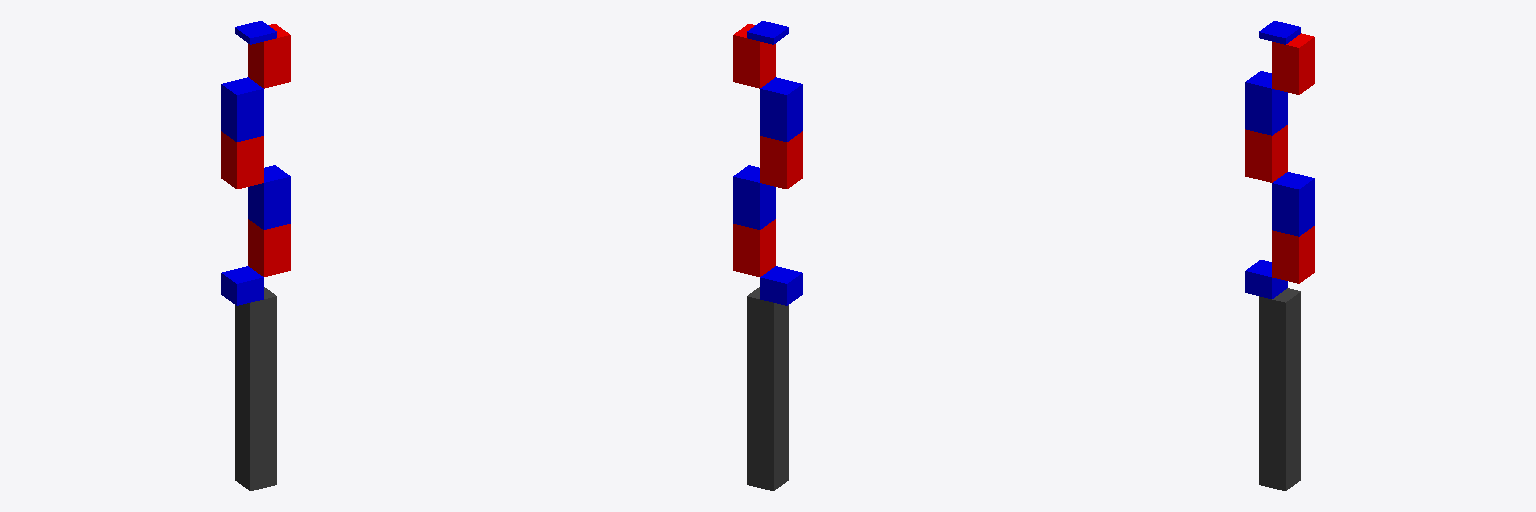
The robot description file, URDF, robot "armdemo":
<?xml version="1.0" ?>
<robot name="armdemo">

  <material name="red">
    <color rgba="1.0 0.0 0.0 1.0"/>
  </material>
  <material name="green">
    <color rgba="0.0 1.0 0.0 1.0"/>
  </material>
  <material name="blue">
    <color rgba="0.0 0.0 1.0 1.0"/>
  </material>
  <material name="gray">
    <color rgba="0.3 0.3 0.3 1.0"/>
  </material>
  <material name="white">
    <color rgba="1.0 1.0 1.0 1.0"/>
  </material>

  <!-- base(world) -->
  <link name="base_link"/>
  
  <!-- base joint  -->
  <joint name="base_joint" type="fixed">
    <parent link="base_link"/>
    <child link="link1"/>
  </joint>
 
  <!-- Link1 link & joint -->
  <link name="link1">
    <collision>
      <origin rpy="0 0 0" xyz="0 0 0.3"/>
      <geometry>
        <box size="0.09 0.09 0.6"/>
      </geometry>
    </collision>
    <visual>
      <origin rpy="0 0 0" xyz="0 0 0.3"/>
      <geometry>
        <box size="0.09 0.09 0.6"/>
      </geometry>
      <material name="gray"/>
    </visual>
    <inertial>
      <origin rpy="0 0 0" xyz="0 0 0"/>
      <mass value="50"/>
      <inertia ixx="0" ixy="0.1" ixz="0.0" iyy="1" iyz="0.0" izz="0.1"/>
    </inertial>
  </link>
   <joint name="joint1" type="revolute">
    <parent link="link1"/>
    <child link="link2"/>
    <origin rpy="0 0 0" xyz="0 0 0.6"/>
   
    <axis xyz="0 0 1"/>
    <dynamics damping="0.05"/>
    <limit effort="30" lower="-2.96" upper="2.96" velocity="1.74"/>
  </joint>
  
  <!-- Link2 link & joint -->
  <link name="link2">
    <collision>
      <origin rpy="0 0 0" xyz="-0.045 0 0.035"/>
      <geometry>
        <box size="0.09 0.09 0.07"/>
      </geometry>
    </collision>
    <visual>
      <origin rpy="0 0 0" xyz="-0.045 0 0.035"/>
      <geometry>
        <box size="0.09 0.09 0.07"/>
      </geometry>
      <material name="blue"/>
    </visual>
    <inertial>
      <origin rpy="0 0 0" xyz="0 0 0.1"/>
      <mass value="0.1"/>
      <inertia ixx="0.01" ixy="0.0" ixz="0.0" iyy="0.01" iyz="0.0" izz="0.01"/>
    </inertial>
  </link>
  <!-- joint2 -->
  <joint name="joint2" type="revolute">
    <parent link="link2"/>
    <child link="link3"/>
    <origin rpy="0 0 0" xyz="0 0 0.07"/>
   
    <axis xyz="1 0 0"/>
    <dynamics damping="0.05"/>
    <limit effort="30" lower="-1.91" upper="1.91" velocity="1.74"/>
  </joint>
  
  <!-- Link3 link & joint -->
 
  <link name="link3">
    <collision>
      <origin rpy="0 0 0" xyz="0.045 0 0.075"/>
      <geometry>
        <box size="0.09 0.09 0.15"/>
      </geometry>
    </collision>
    <visual>
      <origin rpy="0 0 0" xyz="0.045 0 0.075"/>
      <geometry>
        <box size="0.09 0.09 0.15"/>
      </geometry>
      <material name="red"/>
    </visual>
    <inertial>
      <origin rpy="0 0 0" xyz="0.045 0 0.1"/>
      <mass value="0.1"/>
       <inertia ixx="0.01" ixy="0.0" ixz="0.0" iyy="0.01" iyz="0.0" izz="0.01"/>
    </inertial>
  </link>
  <!-- joint3 -->
  <joint name="joint3" type="revolute">
    <parent link="link3"/>
    <child link="link4"/>
    <origin rpy="0 0 0" xyz="0 0 0.15"/>

    <axis xyz="0 0 1"/>
    <dynamics damping="0.1"/>
    <limit effort="30" lower="-2.87" upper="2.87" velocity="2.09"/>
  </joint>

  <!-- Link4 link & joint -->
 
  <link name="link4">
    <collision>
      <origin rpy="0 0 0" xyz="0.045 0 0.075"/>
      <geometry>
        <box size="0.09 0.09 0.15"/>
      </geometry>
    </collision>
    <visual>
      <origin rpy="0 0 0" xyz="0.045 0 0.075"/>
      <geometry>
        <box size="0.09 0.09 0.15"/>
      </geometry>
      <material name="blue"/>
    </visual>
    <inertial>
      <origin rpy="0 0 0" xyz="0 0 0.1"/>
      <mass value="0.1"/>
       <inertia ixx="0.01" ixy="0.0" ixz="0.0" iyy="0.01" iyz="0.0" izz="0.01"/>
    </inertial>
  </link>
  <joint name="joint4" type="revolute">
    <parent link="link4"/>
    <child link="link5"/>
    <origin rpy="0 0 0" xyz="0 0 0.15"/>
 
    <axis xyz="1 0 0"/>
    <dynamics damping="0.1"/>
    <limit effort="30" lower="-2.18" upper="2.18" velocity="2.09"/>
  </joint>

  <!-- Link5 link & joint -->
  <link name="link5">
        <collision>
      <origin rpy="0 0 0" xyz="-0.045 0 0.075"/>
      <geometry>
        <box size="0.09 0.09 0.15"/>
      </geometry>
    </collision>
    <visual>
      <origin rpy="0 0 0" xyz="-0.045 0 0.075"/>
      <geometry>
        <box size="0.09 0.09 0.15"/>
      </geometry>
      <material name="red"/>
    </visual>
    <inertial>
      <origin rpy="0 0 0" xyz="0 0 0.1"/>
      <mass value="0.1"/>
       <inertia ixx="0.01" ixy="0.0" ixz="0.0" iyy="0.01" iyz="0.0" izz="0.01"/>
    </inertial>
  </link>
  <joint name="joint5" type="revolute">
    <parent link="link5"/>
    <child link="link6"/>
    <origin rpy="0 0 0" xyz="0 0 0.15"/>
 
    <axis xyz="0 0 1"/>
    <dynamics damping="0.1"/>
    <limit effort="30" lower="-2.87" upper="2.87" velocity="2.79"/>
  </joint>
  
  <!-- Link6 link & joint -->
  
  <link name="link6">
    <collision>
      <origin rpy="0 0 0" xyz="-0.045 0 0.075"/>
      <geometry>
        <box size="0.09 0.09 0.15"/>
      </geometry>
    </collision>
    <visual>
      <origin rpy="0 0 0" xyz="-0.045 0 0.075"/>
      <geometry>
        <box size="0.09 0.09 0.15"/>
      </geometry>
      <material name="blue"/>
    </visual>
    <inertial>
      <origin rpy="0 0 0" xyz="0 0 0.1"/>
      <mass value="0.1"/>
       <inertia ixx="0.01" ixy="0.0" ixz="0.0" iyy="0.01" iyz="0.0" izz="0.01"/>
    </inertial>
  </link>
  <joint name="joint6" type="revolute">
    <parent link="link6"/>
    <child link="link7"/>
    <origin rpy="0 0 0" xyz="0 0 0.15"/>
    <axis xyz="1 0 0"/>
    <dynamics damping="0.1"/>
    <limit effort="30" lower="-2.09" upper="2.09" velocity="2.79"/>
  </joint>

  <!-- Link7 link & joint -->
  <link name="link7">
    <collision>
      <origin rpy="0 0 0" xyz="0.045 0 0.075"/>
      <geometry>
        <box size="0.09 0.09 0.15"/>
      </geometry>
    </collision>
    <visual>
      <origin rpy="0 0 0" xyz="0.045 0 0.075"/>
      <geometry>
        <box size="0.09 0.09 0.15"/>
      </geometry>
      <material name="red"/>
    </visual>
    <inertial>
      <origin rpy="0 0 0" xyz="0 0 0.1"/>
      <mass value="0.1"/>
       <inertia ixx="0.01" ixy="0.0" ixz="0.0" iyy="0.01" iyz="0.0" izz="0.01"/>
    </inertial>
  </link>
  <joint name="joint7" type="revolute">
    <parent link="link7"/>
    <child link="link8"/>
    <origin rpy="0 0 0" xyz="0 0 0.15"/>
    <axis xyz="0 0 1"/>
    <dynamics damping="0.1"/>
    <limit effort="30" lower="-2.96" upper="2.96" velocity="4.18"/>
  </joint>

 <!-- Link8 (end effector)-->
  <link name="link8">
    <collision>
      <origin rpy="0 0 0" xyz="0 0 0.01"/>
      <geometry>
        <box size="0.09 0.09 0.02"/>
      </geometry>
    </collision>
    <visual>
      <origin rpy="0 0 0" xyz="0 0 0.01"/>
      <geometry>
        <box size="0.09 0.09 0.02"/>
      </geometry>
      <material name="blue"/>
    </visual>
    <inertial>
      <origin rpy="0 0 0" xyz="0 0 0.01"/>
      <mass value="0.1"/>
        <inertia ixx="0.01" ixy="0.0" ixz="0.0" iyy="0.01" iyz="0.0" izz="0.01"/>
    </inertial>
  </link>

  <transmission name="link1_trans">
    <type>transmission_interface/SimpleTransmission</type>
      <joint name="joint1">
      <hardwareInterface>hardware_interface/EffortJointInterface</hardwareInterface>
    </joint>
    <actuator name="link1_motor">
      <hardwareInterface>hardware_interface/EffortJointInterface</hardwareInterface>
      <mechanicalReduction>1</mechanicalReduction>
    </actuator>
  </transmission>
  <transmission name="link2_trans">
    <type>transmission_interface/SimpleTransmission</type>
      <joint name="joint2">
      <hardwareInterface>hardware_interface/EffortJointInterface</hardwareInterface>
    </joint>
    <actuator name="link2_motor">
      <hardwareInterface>hardware_interface/EffortJointInterface</hardwareInterface>
      <mechanicalReduction>1</mechanicalReduction>
    </actuator>
  </transmission>
  <transmission name="link3_trans">
    <type>transmission_interface/SimpleTransmission</type>
      <joint name="joint3">
      <hardwareInterface>hardware_interface/EffortJointInterface</hardwareInterface>
    </joint>
    <actuator name="link3_motor">
      <hardwareInterface>hardware_interface/EffortJointInterface</hardwareInterface>
      <mechanicalReduction>1</mechanicalReduction>
    </actuator>
  </transmission>
  <transmission name="link4_trans">
    <type>transmission_interface/SimpleTransmission</type>
      <joint name="joint4">
      <hardwareInterface>hardware_interface/EffortJointInterface</hardwareInterface>
    </joint>
    <actuator name="link4_motor">
      <hardwareInterface>hardware_interface/EffortJointInterface</hardwareInterface>
      <mechanicalReduction>1</mechanicalReduction>
    </actuator>
  </transmission>
  <transmission name="link5_trans">
    <type>transmission_interface/SimpleTransmission</type>
      <joint name="joint5">
      <hardwareInterface>hardware_interface/EffortJointInterface</hardwareInterface>
    </joint>
    <actuator name="link5_motor">
      <hardwareInterface>hardware_interface/EffortJointInterface</hardwareInterface>
      <mechanicalReduction>1</mechanicalReduction>
    </actuator>
  </transmission>
  <transmission name="link6_trans">
    <type>transmission_interface/SimpleTransmission</type>
      <joint name="joint6">
      <hardwareInterface>hardware_interface/EffortJointInterface</hardwareInterface>
    </joint>
    <actuator name="link6_motor">
      <hardwareInterface>hardware_interface/EffortJointInterface</hardwareInterface>
      <mechanicalReduction>1</mechanicalReduction>
    </actuator>
  </transmission>
  <transmission name="link7_trans">
    <type>transmission_interface/SimpleTransmission</type>
      <joint name="joint7">
      <hardwareInterface>hardware_interface/EffortJointInterface</hardwareInterface>
    </joint>
    <actuator name="link7_motor">
      <hardwareInterface>hardware_interface/EffortJointInterface</hardwareInterface>
      <mechanicalReduction>1</mechanicalReduction>
    </actuator>
  </transmission>
  <gazebo>
    <plugin name="gazebo_ros_control" filename="libgazebo_ros_control.so">
      <robotNamespace>/</robotNamespace>
      <robotSimType>gazebo_ros_control/DefaultRobotHWSim</robotSimType>
      <legacyModeNS>true</legacyModeNS>
    </plugin>
  </gazebo>

</robot>

--- What the picture shows (computed from the rendered views, not written in the file) ---
Views: 3 orthographic renders of the robot side by side, from view 1: azimuth 30°, elevation 25°; view 2: azimuth 150°, elevation 25°; view 3: azimuth 330°, elevation 25°.
Robot: armdemo — 9 links, 8 joints (7 revolute, 1 fixed); root link base_link; default pose: all joints at 0.
Visible links, largest first — view 1: link1, link6, link4, link7, link5, link3, link2, link8; view 2: link1, link6, link4, link7, link5, link3, link2, link8; view 3: link1, link4, link7, link6, link5, link3, link2, link8.
Boxes of the visible links, x1,y1,x2,y2 form: link1: [235, 287, 276, 490]; link6: [221, 77, 263, 141]; link4: [248, 165, 290, 229]; link7: [248, 24, 290, 88]; link5: [221, 131, 263, 188]; link3: [248, 219, 290, 276]; link2: [221, 266, 263, 305]; link8: [235, 21, 276, 44]; link1: [747, 287, 788, 490]; link6: [760, 77, 802, 141]; link4: [733, 165, 775, 229]; link7: [733, 24, 775, 88]; link5: [760, 131, 802, 188]; link3: [733, 219, 775, 276]; link2: [760, 266, 802, 305]; link8: [747, 21, 788, 44]; link1: [1259, 288, 1300, 490]; link4: [1272, 172, 1314, 236]; link7: [1272, 33, 1314, 94]; link6: [1245, 71, 1287, 135]; link5: [1245, 125, 1287, 182]; link3: [1272, 226, 1314, 283]; link2: [1245, 260, 1287, 298]; link8: [1259, 21, 1300, 44].
Bounding box of the posed robot: 0.18 × 0.09 × 1.44 m (x, y, z).
Geometry: primitives only (box / cylinder / sphere), no mesh files.
